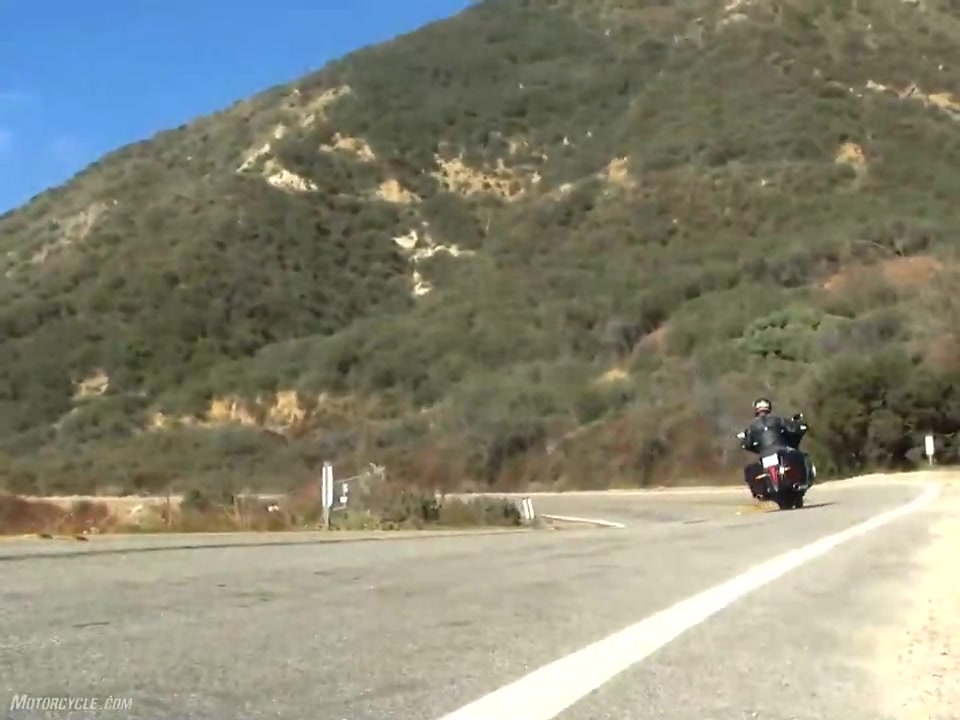motorbike: (735, 411, 820, 510)
